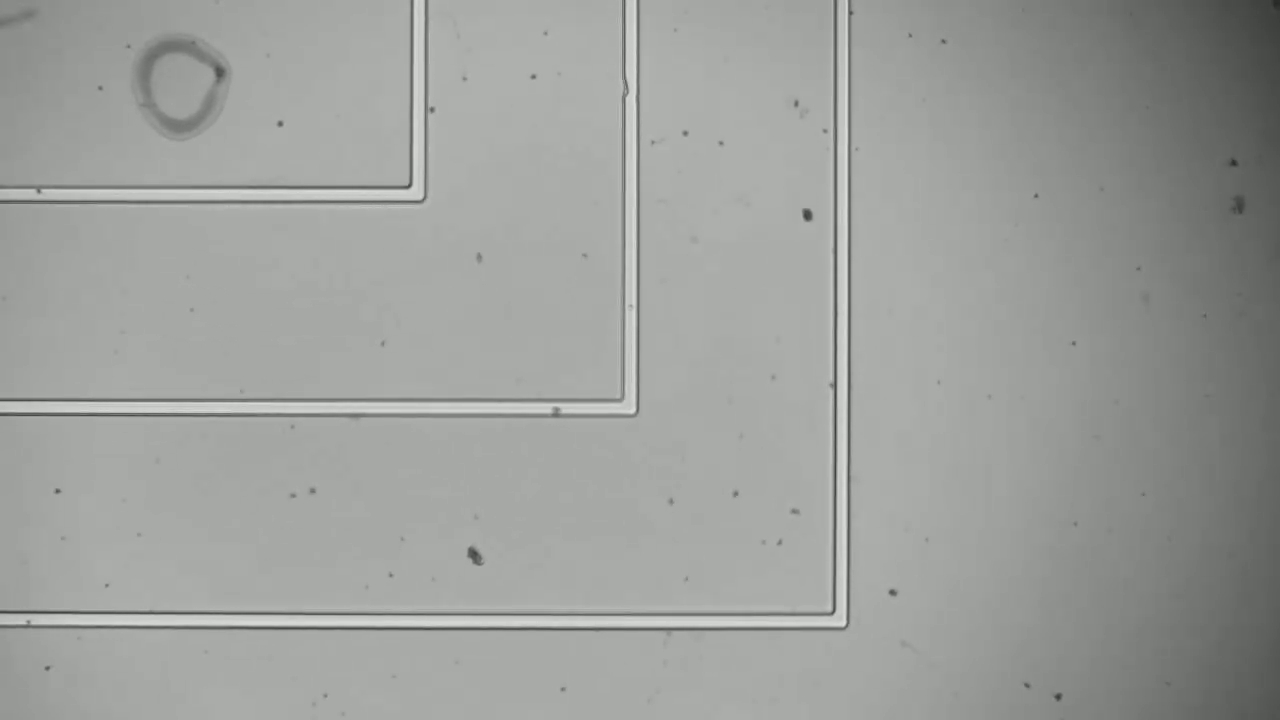edge_bite: (615, 73, 649, 105)
stains_enbedded: (538, 388, 574, 429)
